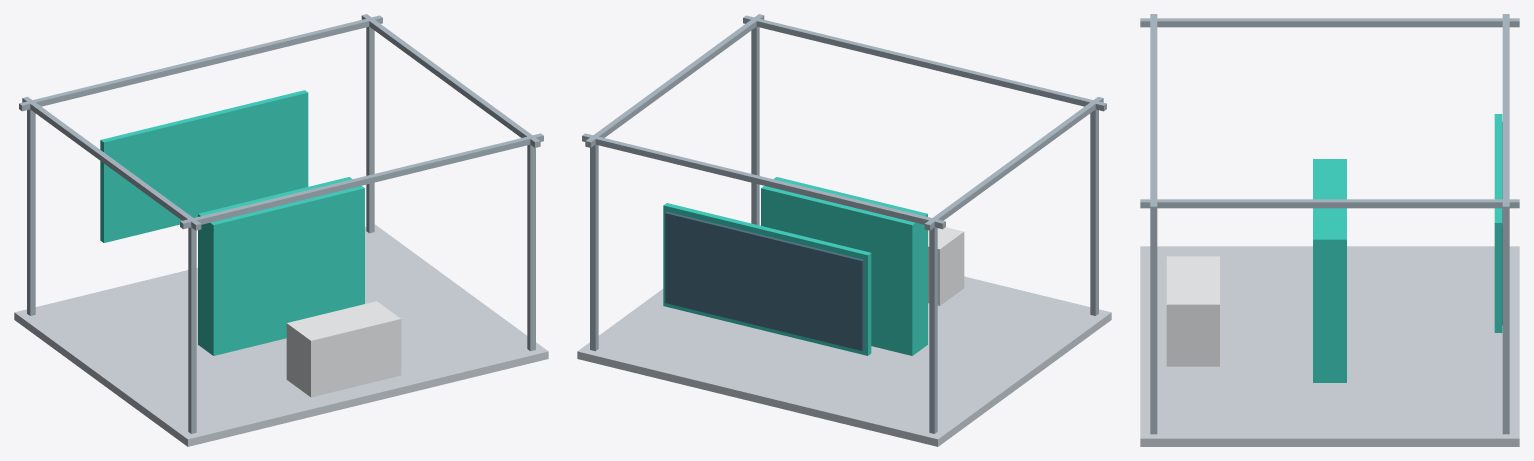
The picture shows the model from 3 angles, left to right: view 1: azimuth 30°, elevation 25°; view 2: azimuth 150°, elevation 25°; view 3: azimuth 270°, elevation 25°; orthographic projection. The views are drawn at different scales.
Parts seen in each view (by area): view 1: Exhibition Booth Concept; view 2: Exhibition Booth Concept; view 3: Exhibition Booth Concept.
Boxes of the visible parts, box(x1,y1,x2,y2) form: Exhibition Booth Concept: box(14, 14, 548, 446); Exhibition Booth Concept: box(577, 14, 1111, 446); Exhibition Booth Concept: box(1140, 14, 1519, 446).
Size of the model in its own units: 6 by 3.49 by 5.
